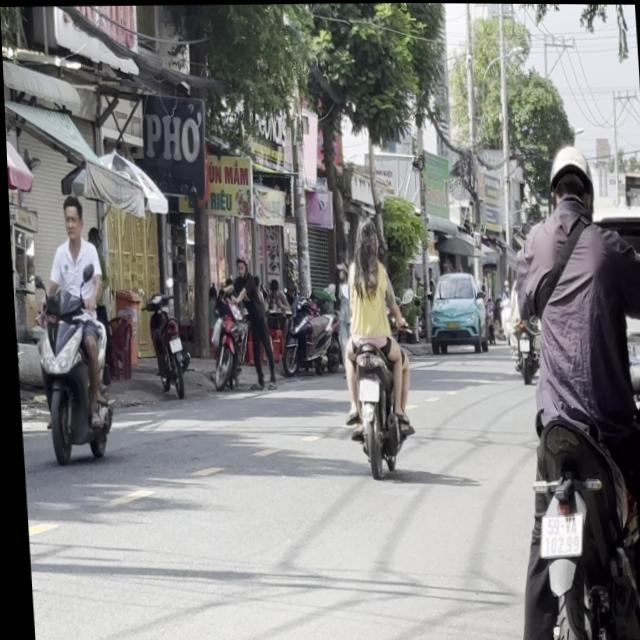helmet: (543, 142, 592, 215)
licenseplate: (486, 134, 640, 638), (21, 191, 114, 466), (326, 212, 413, 475)
motorcyclist: (349, 216, 376, 266), (56, 192, 81, 241)
nohelmet: (532, 511, 577, 554), (353, 376, 373, 399)
